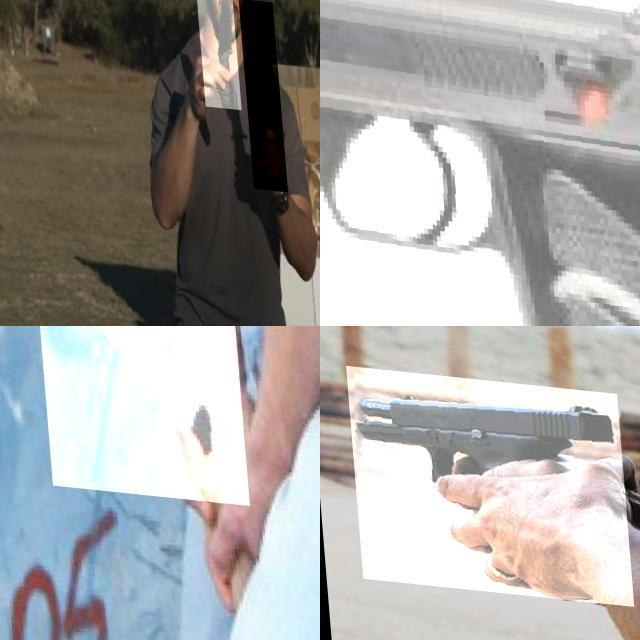-: (31, 326, 243, 497), (236, 0, 282, 183), (193, 0, 237, 102)
gun-knife-thesis - v11 Yolov5 augmented: (320, 0, 640, 326), (342, 365, 627, 600)
